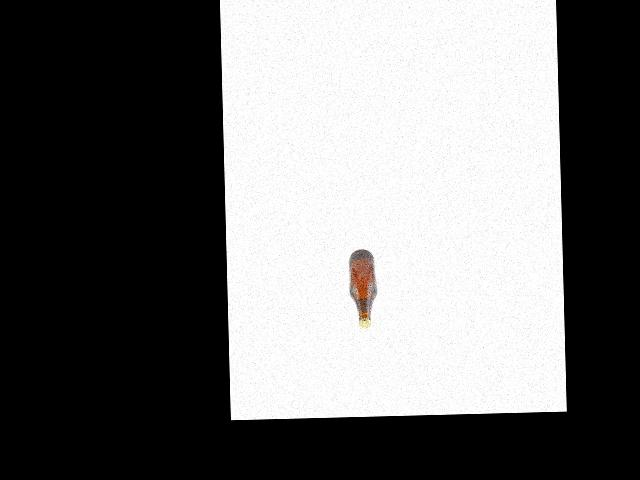beer: (349, 249, 376, 328)
